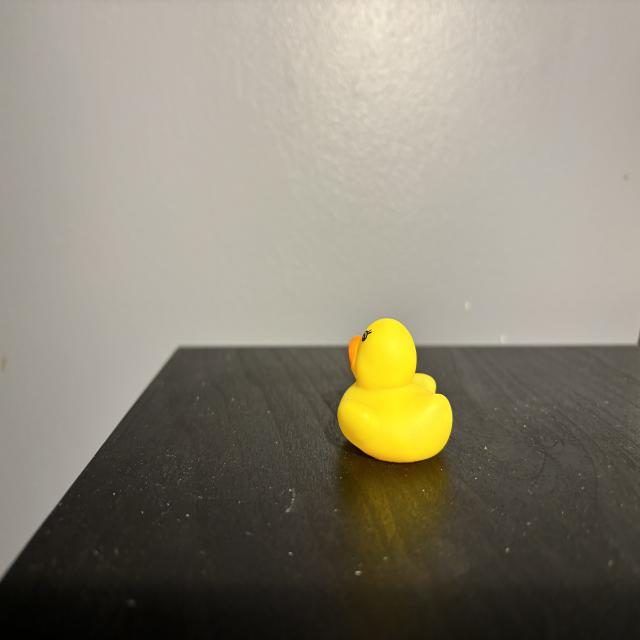duck_regular: (339, 320, 454, 463)
